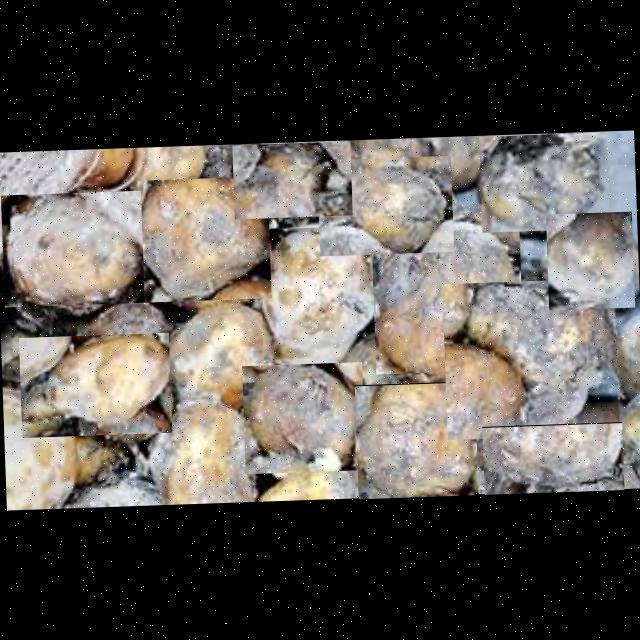Damaged potato: (442, 278, 619, 440), (371, 211, 524, 374), (258, 225, 376, 369), (137, 176, 271, 302), (0, 190, 144, 307), (18, 332, 172, 438), (354, 381, 478, 498), (316, 155, 454, 256), (242, 362, 366, 474), (479, 132, 610, 232), (150, 396, 264, 504), (482, 422, 624, 494), (232, 141, 352, 219), (546, 211, 634, 310)
